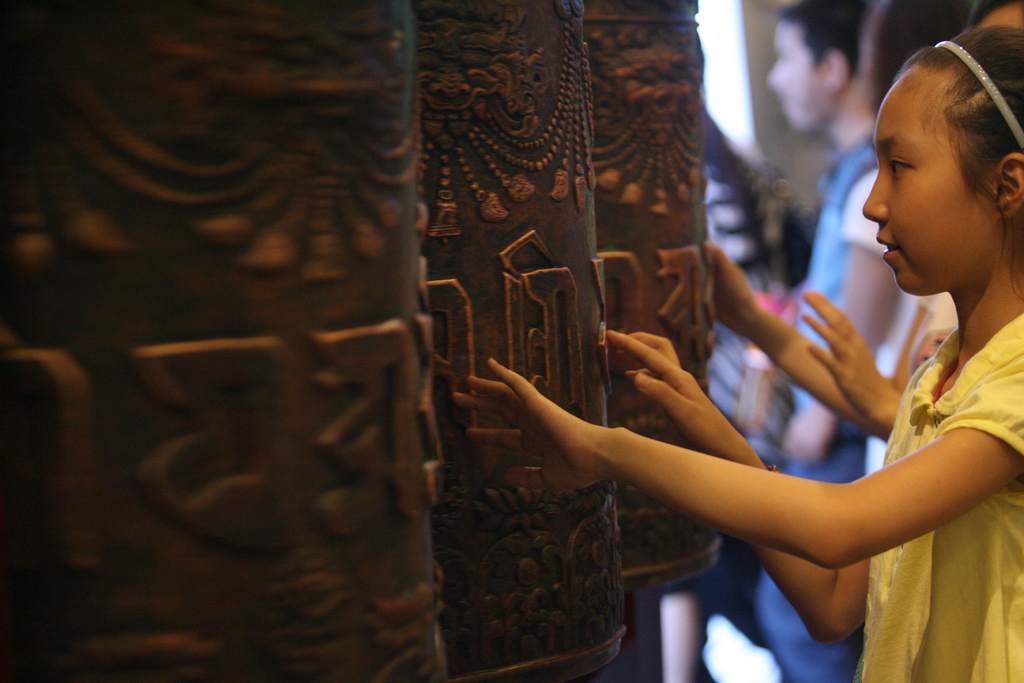Human_hand: (466, 357, 680, 498), (605, 327, 740, 454), (800, 288, 885, 418), (708, 237, 757, 331)
